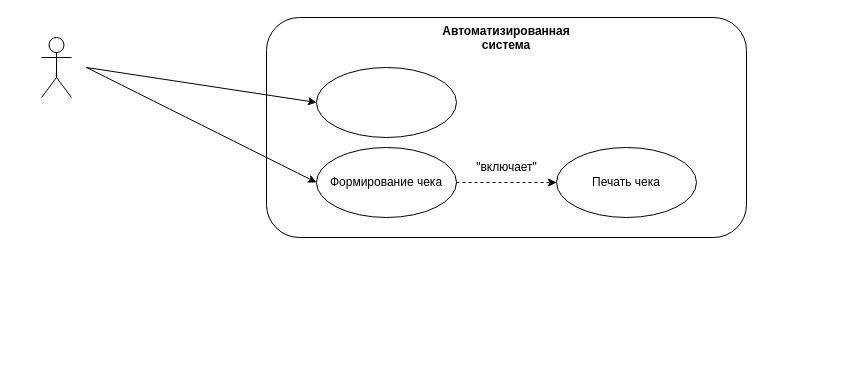
Some shapes in this 842 by 383 pixel diagram are drawn without their labels. Here are the shapes that lost their labels. From the top down, the centre of each, then its label:
At [56,67]: "Пользователь".
At [386,102]: "Просмотр".
